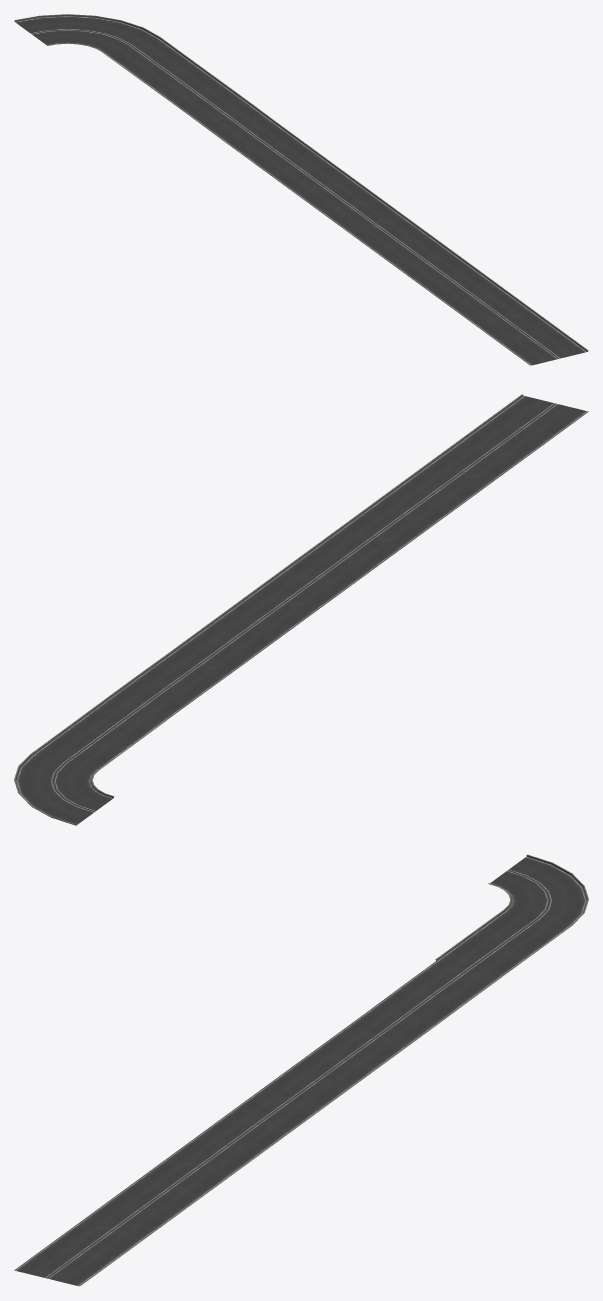
The model's file is roadssfse26.obj.
The picture shows the model from 3 angles, top to bottom: view 1: azimuth 30°, elevation 25°; view 2: azimuth 150°, elevation 25°; view 3: azimuth 330°, elevation 25°; orthographic projection. The views are drawn at different scales.
Visible parts, largest first — view 1: roadsSFSE26; view 2: roadsSFSE26; view 3: roadsSFSE26.
Boxes of the visible parts, left/top/right/bottom form: roadsSFSE26: left=14, top=14, right=588, bottom=365; roadsSFSE26: left=14, top=394, right=588, bottom=825; roadsSFSE26: left=14, top=854, right=588, bottom=1286.
Size of the model in its own units: 16.25 by 0.2 by 146.
Materials: 2 (2 with a texture image).
